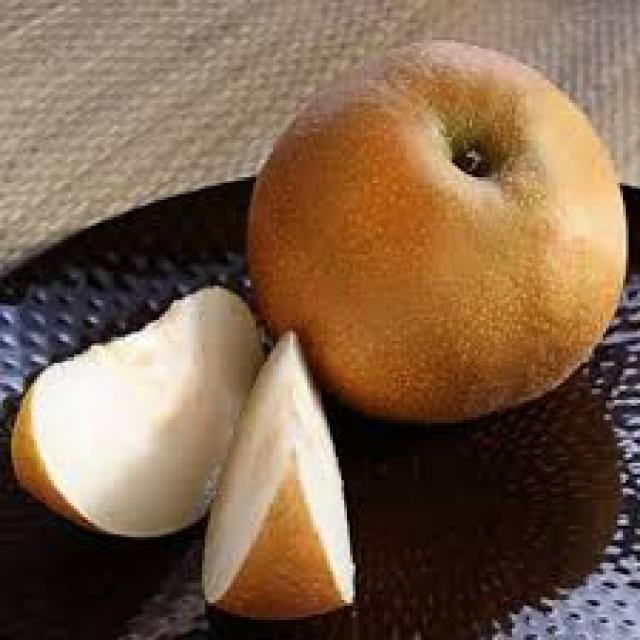pear: (250, 42, 629, 422)
